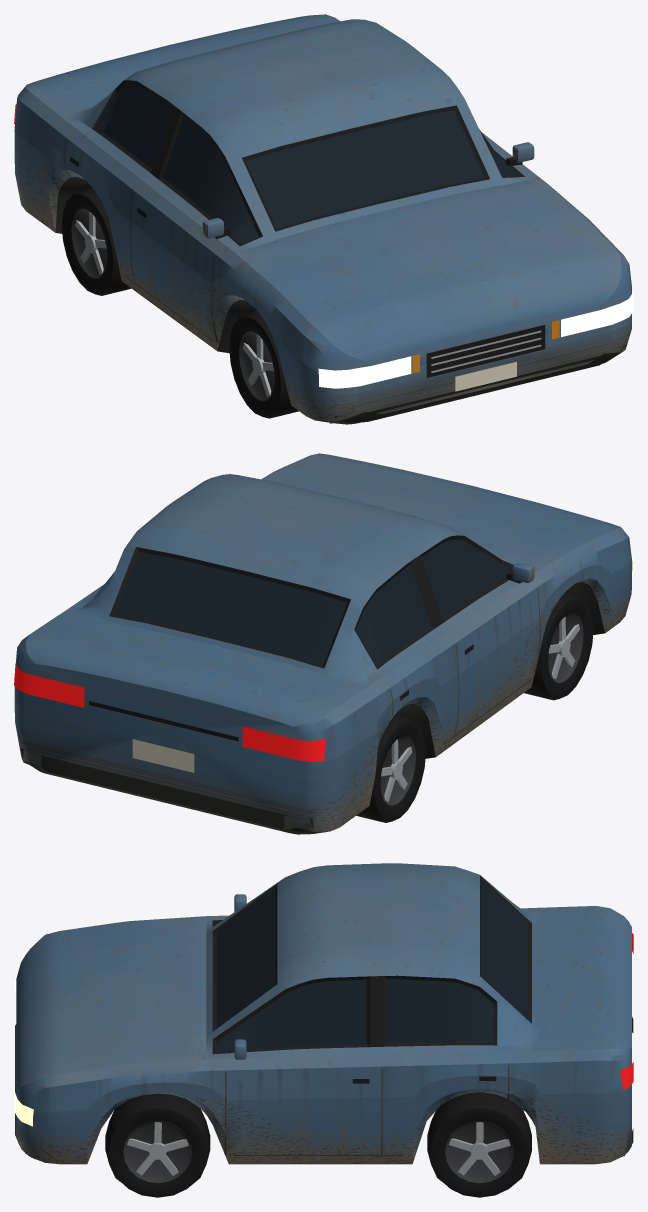
Rendered from sedan.glb.
3 views of the same model, one above another, from view 1: azimuth 30°, elevation 25°; view 2: azimuth 150°, elevation 25°; view 3: azimuth 270°, elevation 25° (orthographic). The views are drawn at different scales.
Visible parts, largest first — view 1: body, wheel-back-right, wheel-front-right, wheel-front-right.1, wheel-back-right.1; view 2: body, wheel-front-right, wheel-back-right, wheel-back-right.1, wheel-front-right.1; view 3: body, wheel-back-left, wheel-front-left, wheel-front-left.1, wheel-back-left.1.
Boxes of the visible parts, box(x1,y1,x2,y2) form: body: box(14, 14, 633, 424); wheel-back-right: box(61, 187, 130, 295); wheel-front-right: box(229, 311, 298, 418); wheel-front-right.1: box(239, 331, 274, 401); wheel-back-right.1: box(71, 208, 107, 278); body: box(14, 453, 633, 834); wheel-front-right: box(524, 592, 593, 700); wheel-back-right: box(356, 714, 425, 822); wheel-back-right.1: box(380, 735, 415, 805); wheel-front-right.1: box(548, 613, 583, 682); body: box(14, 863, 633, 1164); wheel-back-left: box(427, 1092, 531, 1197); wheel-front-left: box(105, 1093, 210, 1197); wheel-front-left.1: box(123, 1120, 192, 1183); wheel-back-left.1: box(445, 1120, 513, 1183).
Size of the model in its own units: 1.5 by 0.9715 by 2.54.
12 materials, 1 textured.
